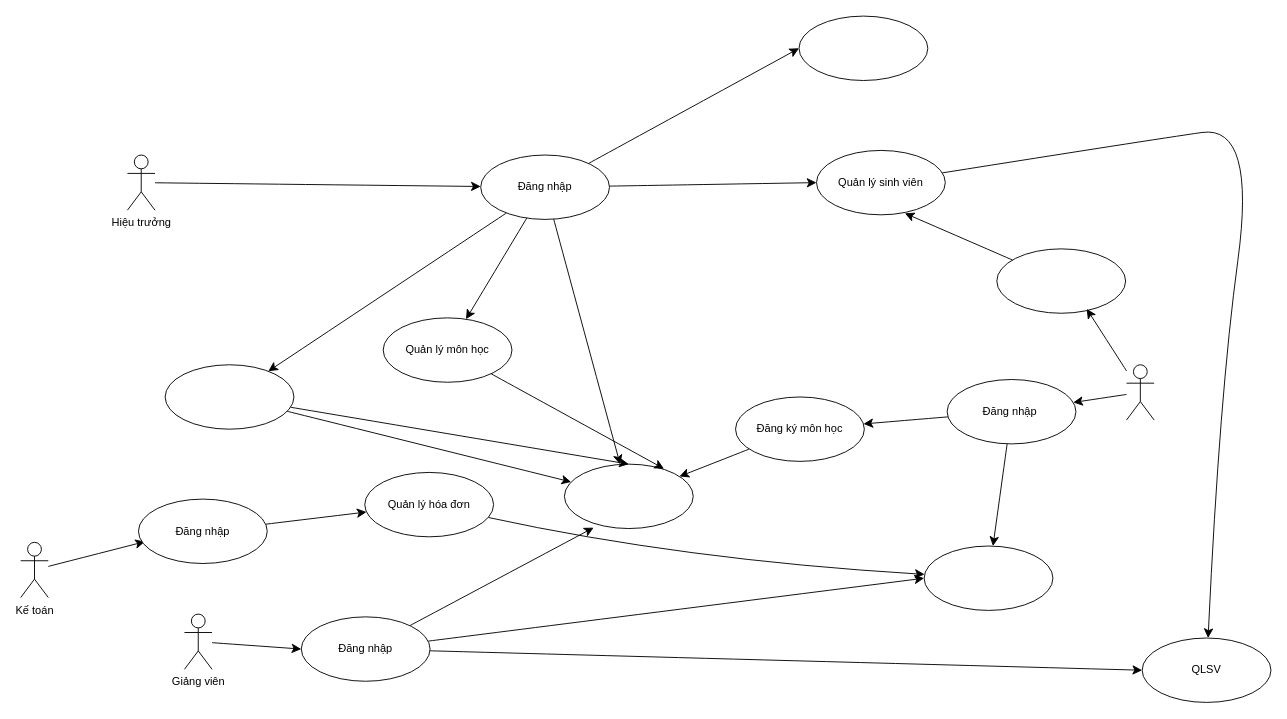
Some shapes in this 1287 by 719 pixel diagram are drawn without their labels. Each missing label, with the centre of its shape:
"Quản lý giáo viên" goes at point 229,396.
"Quản lý kế toán" goes at point 863,47.
"Quản lý lịch học" goes at point 628,496.
"Sinh viên" goes at point 1140,392.
"Tìm kiếm" goes at point 988,577.
"Đăng ký" goes at point 1061,280.
